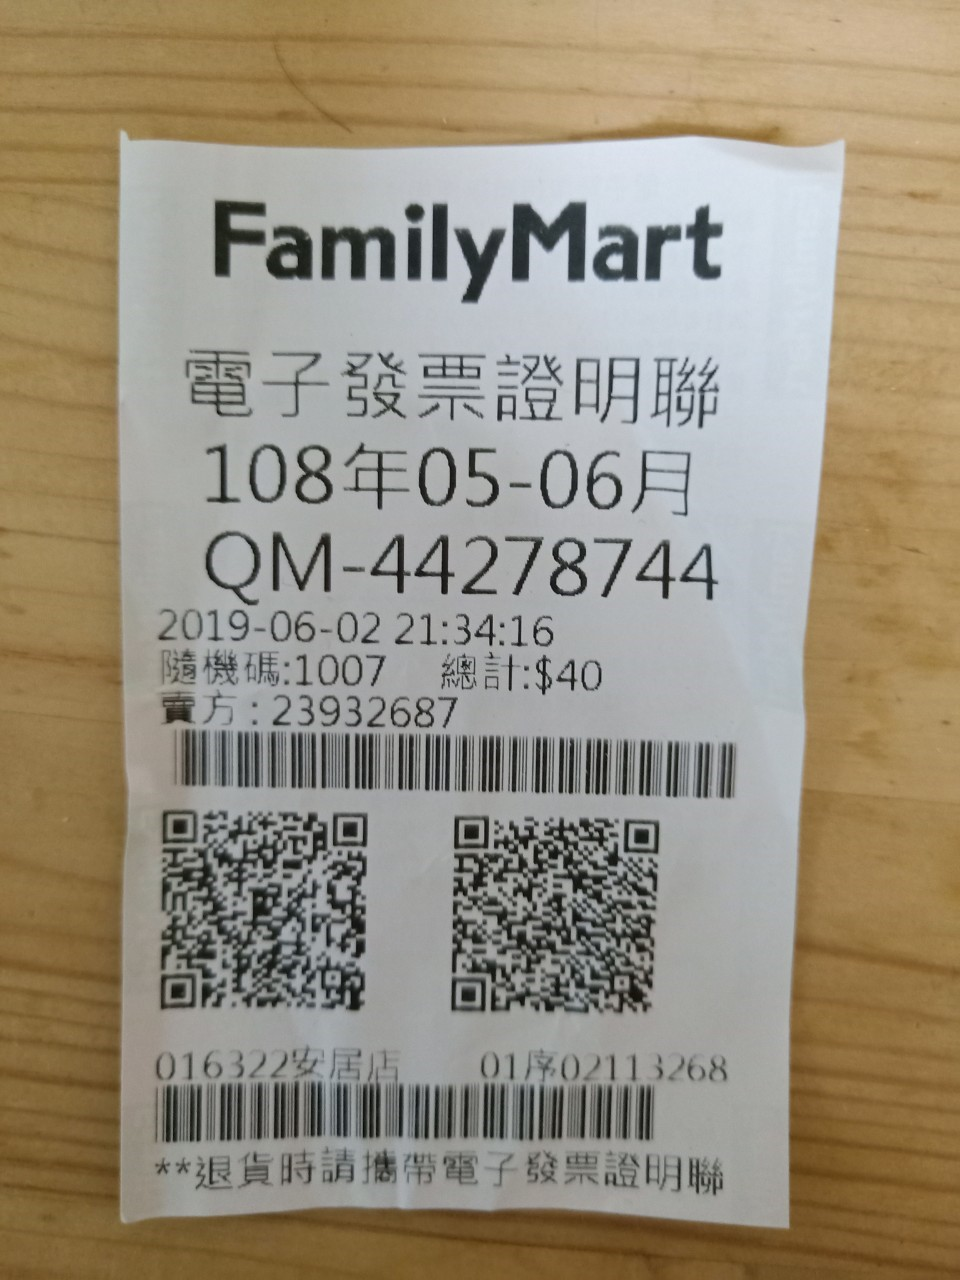Date_New: (195, 437, 698, 517)
Number_New: (371, 527, 728, 608)
